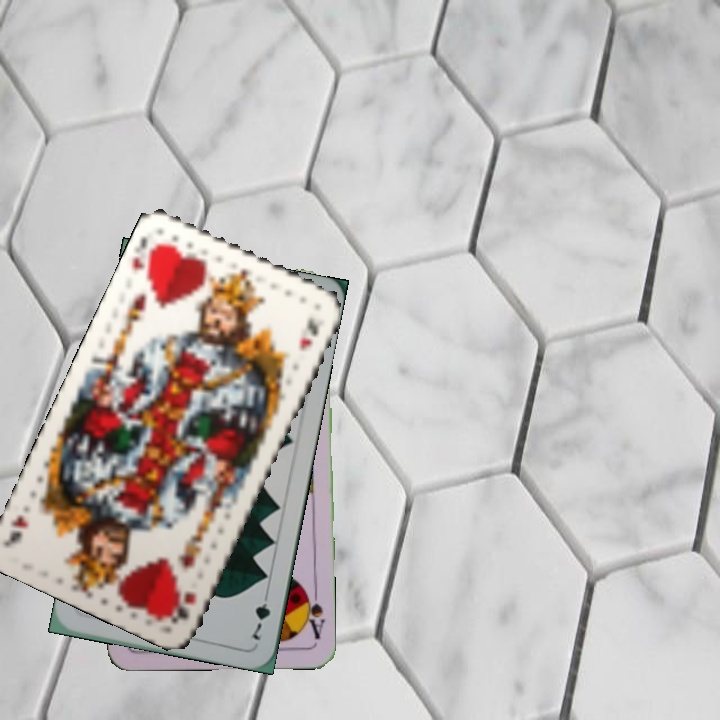G7: (248, 586, 273, 643)
HK: (127, 231, 165, 284), (166, 586, 200, 625)
SA: (300, 584, 327, 642)
